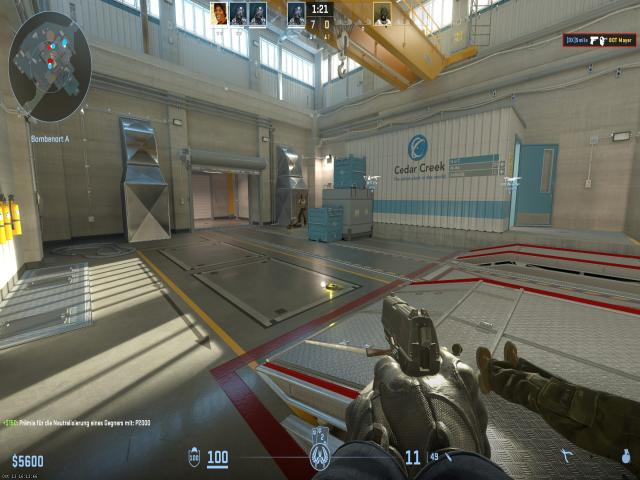Bomb: (326, 281, 336, 294)
Dead: (481, 324, 640, 445), (286, 218, 302, 230)
T: (297, 193, 309, 221)
T-Head: (300, 194, 304, 199)
